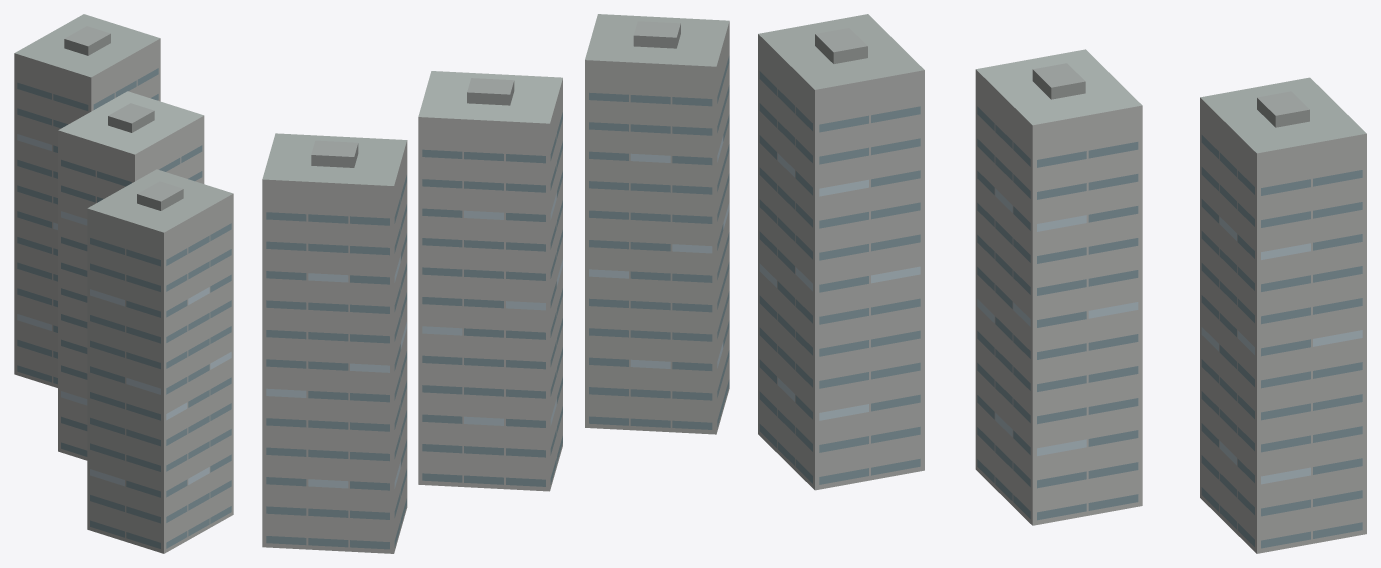
The model's file is apt-a14319306.glb.
The picture shows the model from 3 angles, left to right: view 1: azimuth 30°, elevation 25°; view 2: azimuth 150°, elevation 25°; view 3: azimuth 270°, elevation 25°; orthographic projection. The views are drawn at different scales.
Visible parts, largest first — view 1: apt-a14319306; view 2: apt-a14319306; view 3: apt-a14319306.
Boxes of the visible parts, x1,y1,x2,y2 form: apt-a14319306: (14,14,233,553); apt-a14319306: (262,14,729,553); apt-a14319306: (758,14,1366,553).
Bounding box in the file's own units: 60.2 × 83 × 111.
